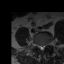CCS_normal: (41, 43, 43, 52)
LFS_stenosis: (45, 41, 47, 48)
LLS_normal: (43, 43, 45, 52)
RFS_normal: (37, 42, 39, 50)
RLS_normal: (39, 43, 41, 51)
